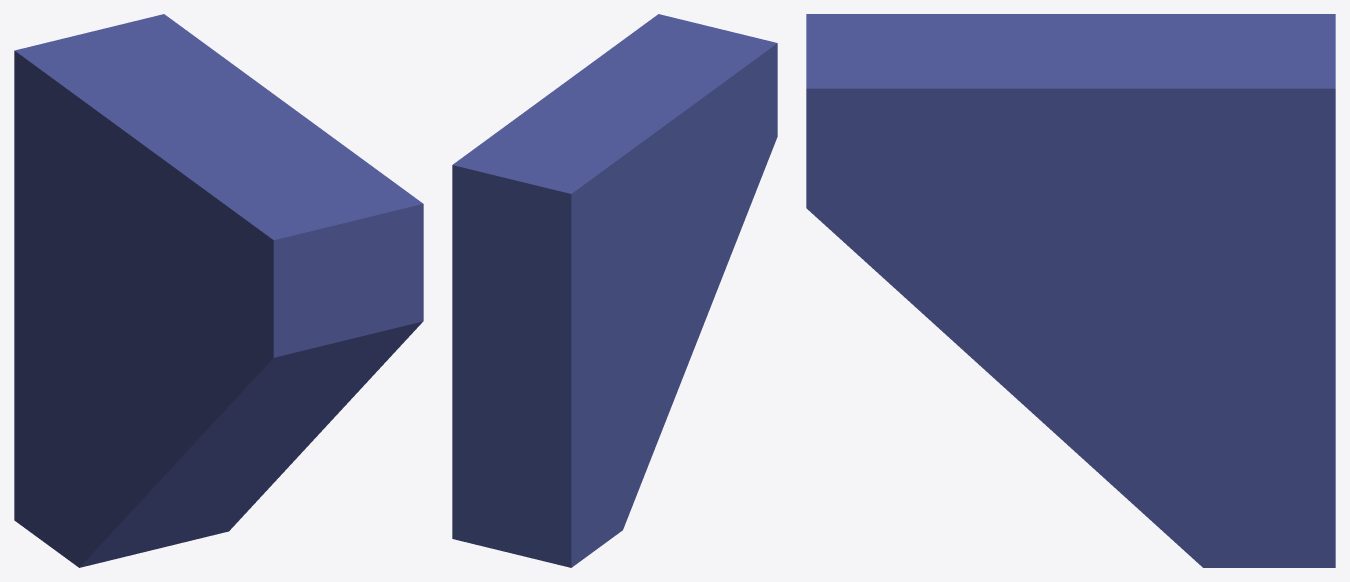
File: CoL_AngledCube_04.fbx
The picture shows the model from 3 angles, left to right: view 1: azimuth 30°, elevation 25°; view 2: azimuth 150°, elevation 25°; view 3: azimuth 270°, elevation 25°; orthographic projection. The views are drawn at different scales.
Parts seen in each view (by area): view 1: CoL_AngledCube_04; view 2: CoL_AngledCube_04; view 3: CoL_AngledCube_04.
Boxes of the visible parts, left/top/right/bottom form: CoL_AngledCube_04: left=14, top=14, right=423, bottom=567; CoL_AngledCube_04: left=452, top=14, right=777, bottom=567; CoL_AngledCube_04: left=806, top=14, right=1335, bottom=567.
Bounding box in the file's own units: 200 × 600 × 600.
